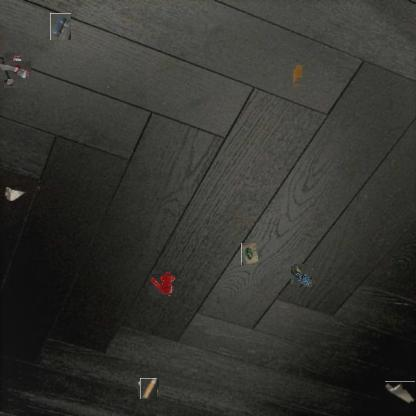dirty: (0, 57, 27, 84), (386, 381, 416, 404), (48, 14, 73, 39), (292, 264, 314, 286), (241, 243, 258, 265), (139, 379, 158, 398), (4, 186, 26, 202)
liquid: (150, 272, 176, 296), (293, 66, 303, 86)
